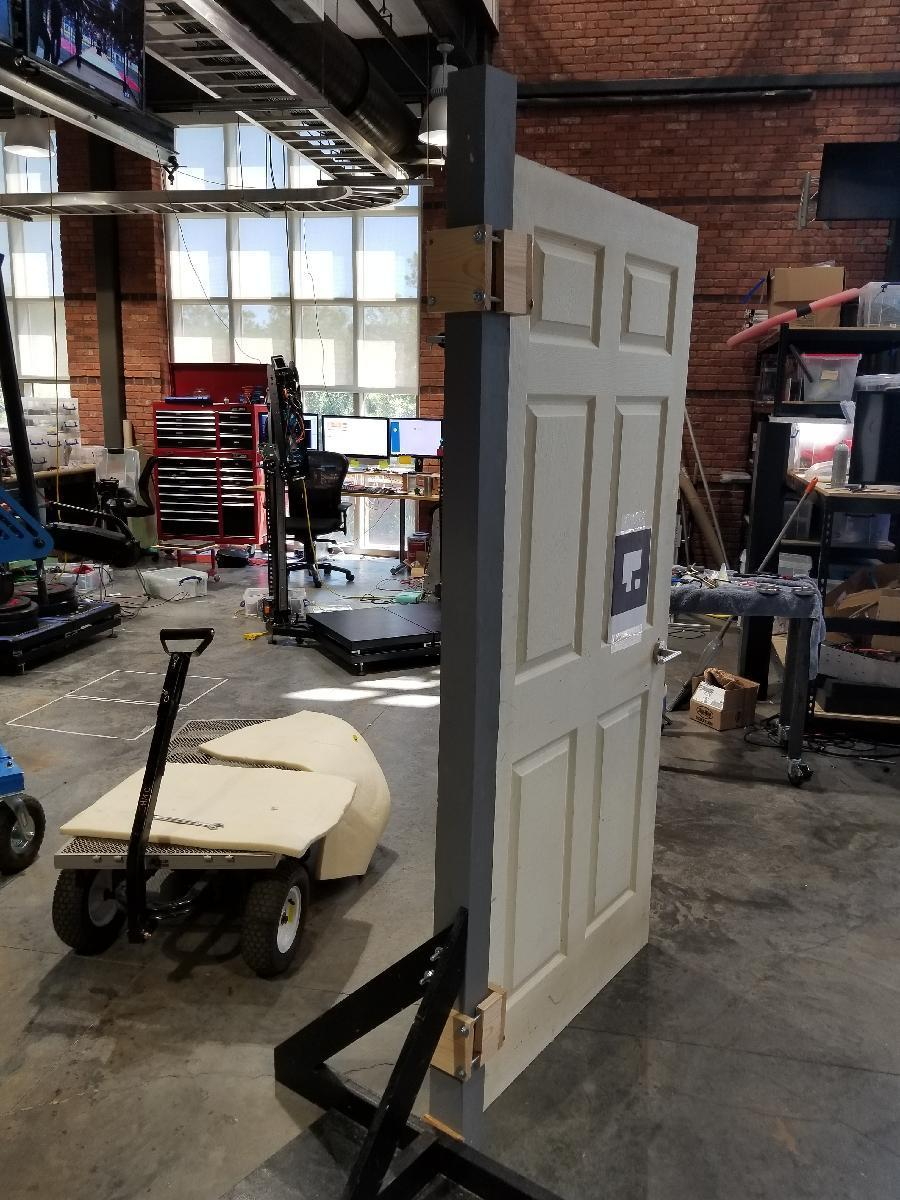door: (516, 150, 691, 1030)
handle: (656, 639, 681, 668)
